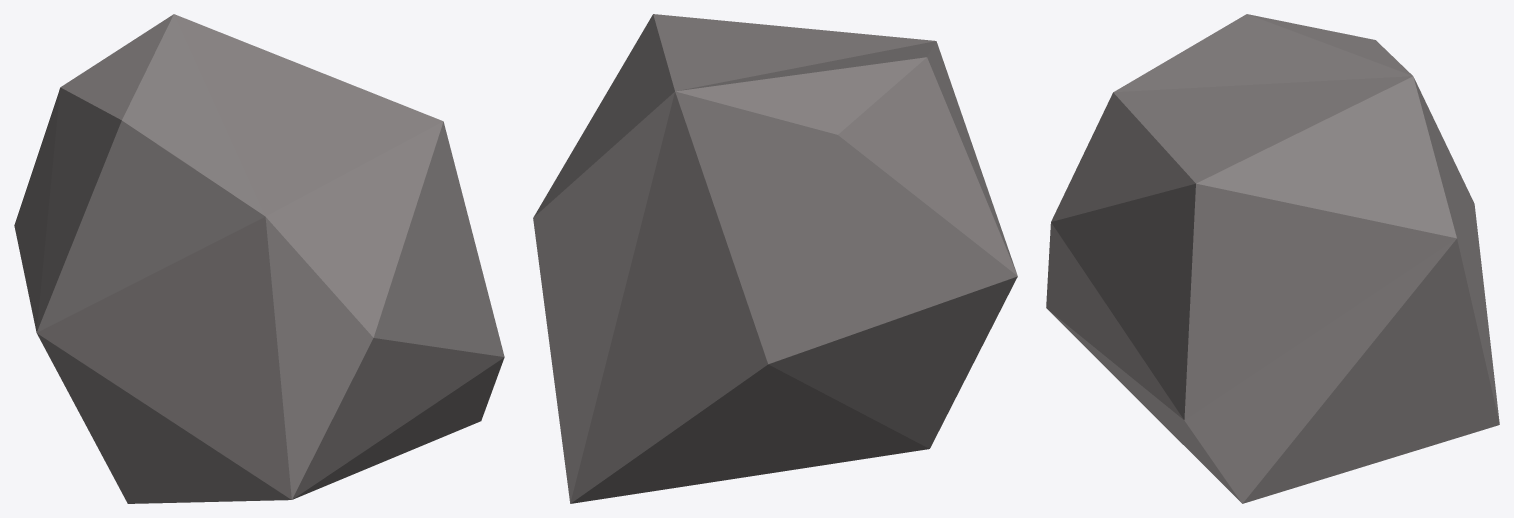
The model's file is SM_Slingshot_Rock_Goblin.fbx.
3 views of the same model, side by side, from view 1: azimuth 30°, elevation 25°; view 2: azimuth 150°, elevation 25°; view 3: azimuth 270°, elevation 25° (orthographic). The views are drawn at different scales.
Visible parts, largest first — view 1: SM_Slingshot_Rock_Goblin; view 2: SM_Slingshot_Rock_Goblin; view 3: SM_Slingshot_Rock_Goblin.
Boxes of the visible parts, x1,y1,x2,y2 form: SM_Slingshot_Rock_Goblin: [14, 14, 504, 503]; SM_Slingshot_Rock_Goblin: [533, 14, 1017, 503]; SM_Slingshot_Rock_Goblin: [1046, 14, 1499, 503].
Size of the model in its own units: 0.072 by 0.06 by 0.073.
